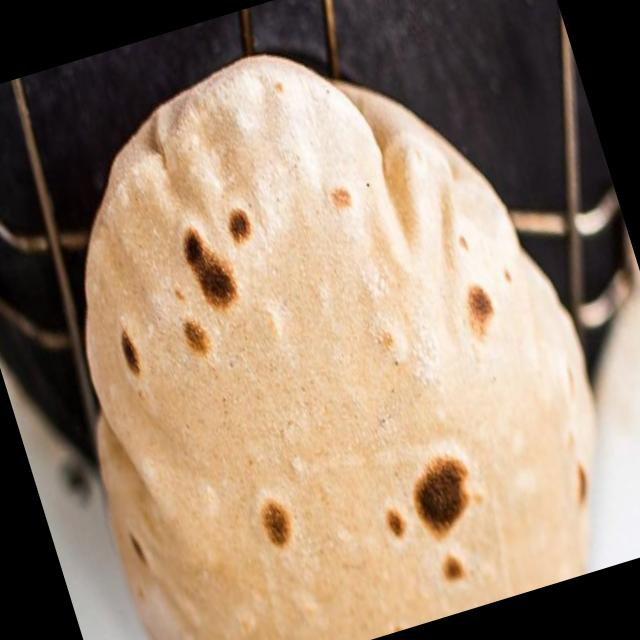roti: (78, 48, 596, 640)
